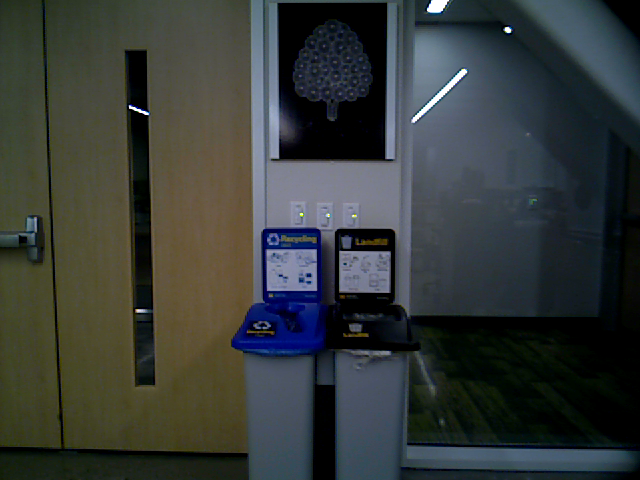painting1: (267, 3, 399, 167)
